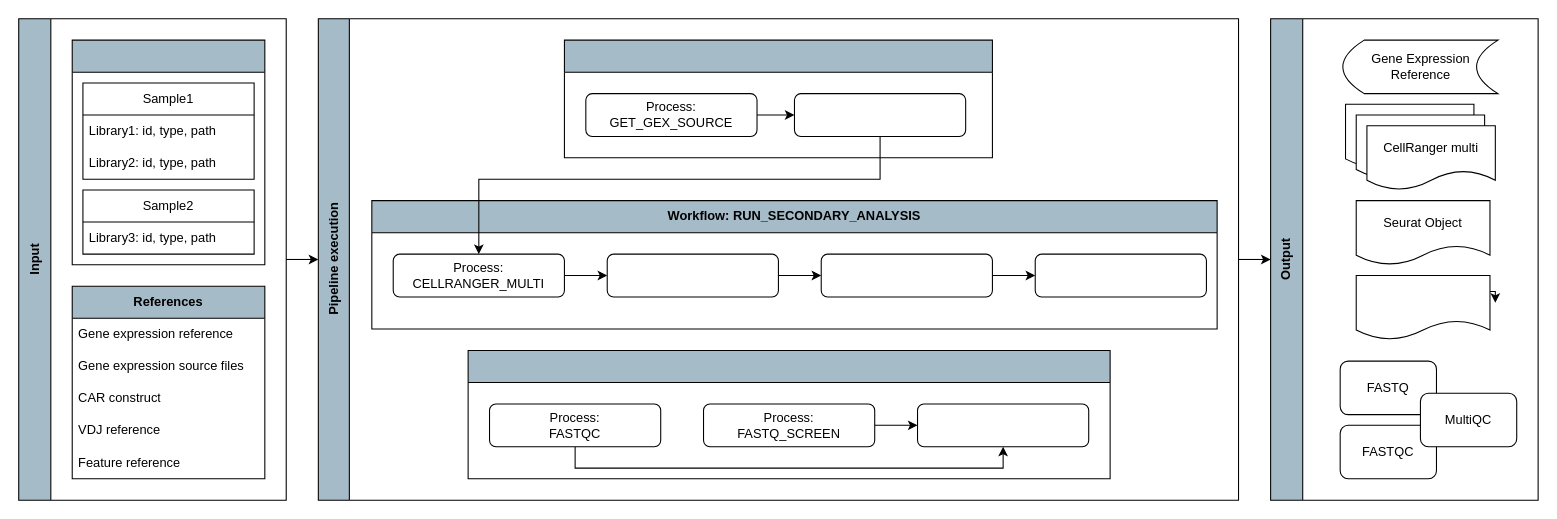
This 1557x519 diagram has some shape labels left out. The box of each missing label's shape, as (x1, y1, x2, y2) in pixels:
Process: BUILD_GEX_REFERENCE: (793, 93, 966, 136)
Process: CAR_METRICS: (820, 253, 992, 297)
Process: MULTIQC: (916, 403, 1089, 447)
Process: QUARTO: (1034, 253, 1206, 297)
Process: SEURAT_OBJECT: (606, 253, 778, 297)
Quarto Webpage: (1355, 274, 1490, 340)
Samples: (71, 39, 265, 265)
Workflow: HANDLE_GEX_REFERENCE: (563, 39, 992, 158)
Workflow: RUN_QUALITY_CONTROL: (467, 349, 1110, 479)
